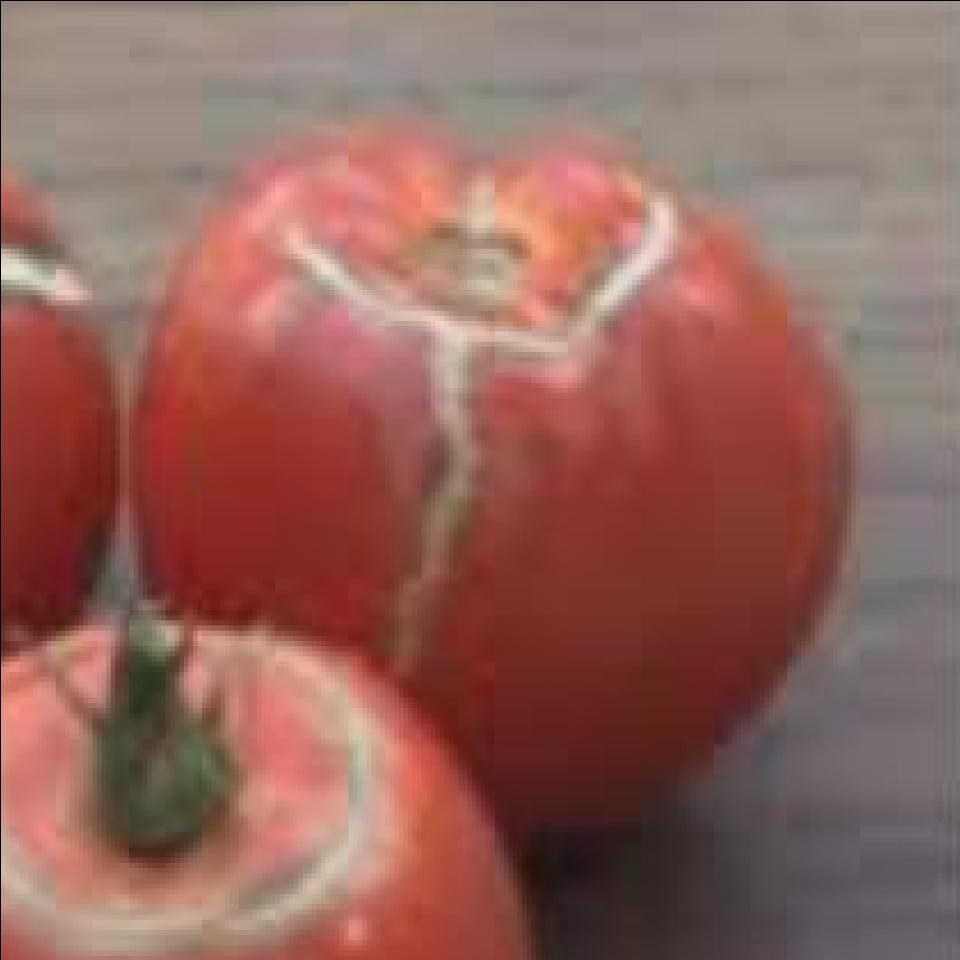Cracking: (256, 205, 666, 727), (0, 599, 375, 955), (0, 222, 91, 325)
